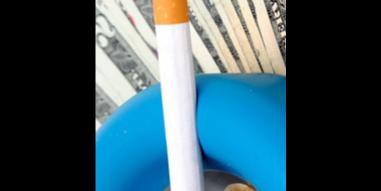Cigarette: (143, 0, 208, 191)
